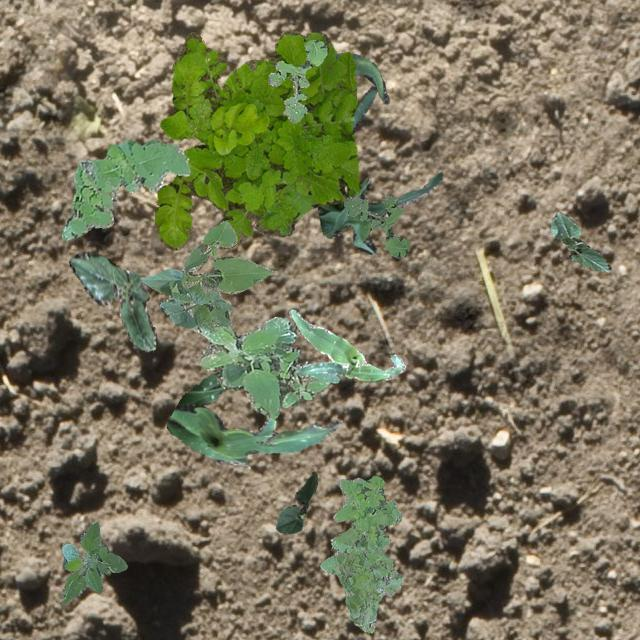crop: (316, 85, 442, 252), (166, 371, 340, 465), (138, 220, 272, 332), (68, 250, 156, 350), (287, 308, 403, 382), (60, 520, 126, 604), (550, 212, 610, 270), (332, 52, 388, 102), (274, 470, 316, 532)
weed: (154, 30, 358, 248), (192, 316, 338, 418), (60, 138, 190, 240), (320, 474, 402, 632), (266, 38, 328, 122), (342, 192, 408, 258)
